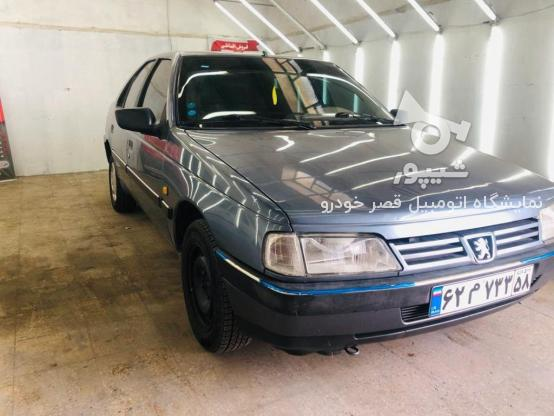car: (429, 264, 539, 320)
